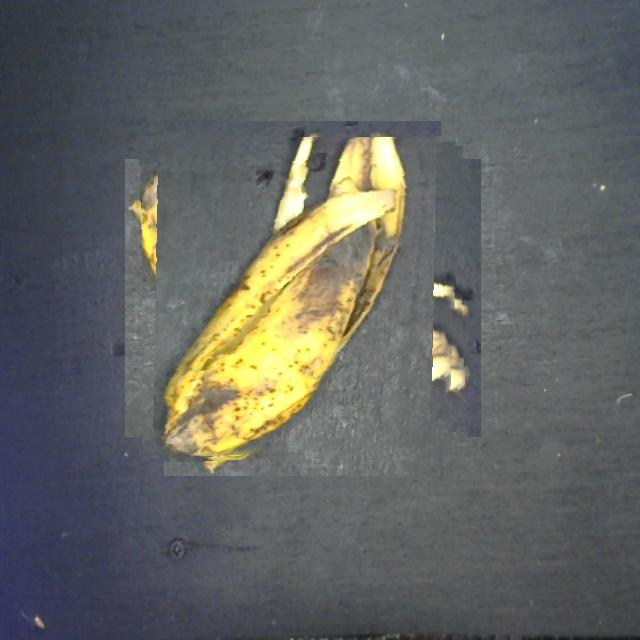biodegradable: (142, 138, 464, 460)
